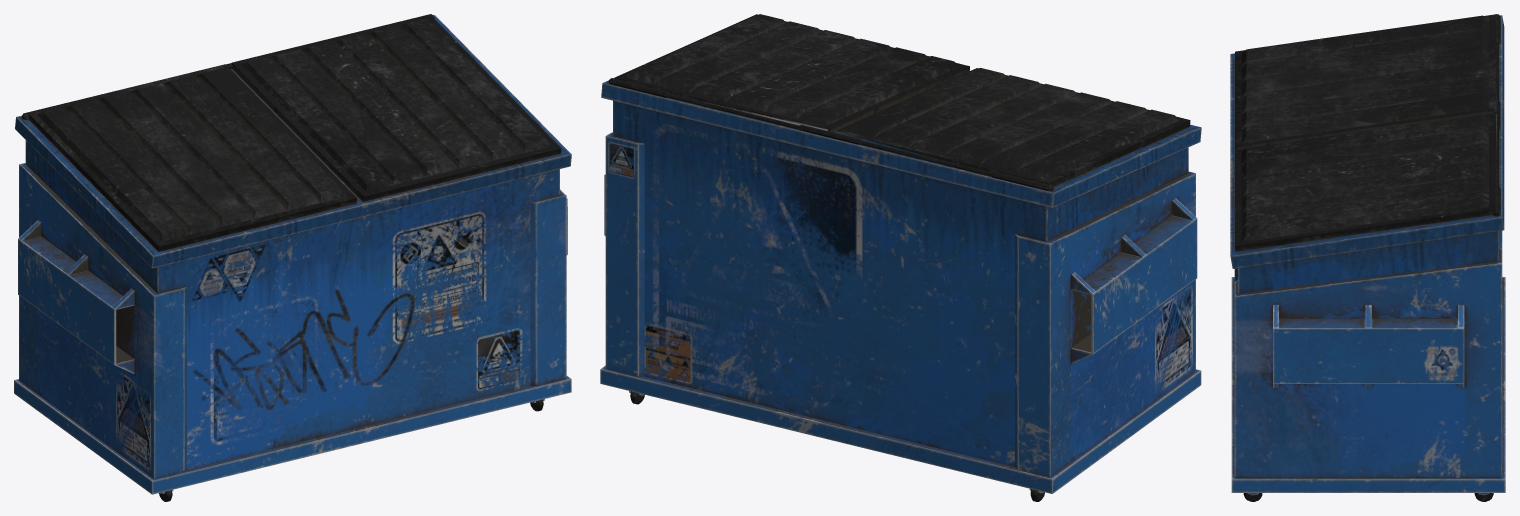
The model's file is Dumpster.fbx.
The picture shows the model from 3 angles, left to right: view 1: azimuth 30°, elevation 25°; view 2: azimuth 150°, elevation 25°; view 3: azimuth 270°, elevation 25°; orthographic projection. The views are drawn at different scales.
Visible parts, largest first — view 1: Dumpster; view 2: Dumpster; view 3: Dumpster.
Part boxes in pixels (left/top/right/bottom): Dumpster: left=14, top=14, right=571, bottom=501; Dumpster: left=600, top=14, right=1201, bottom=501; Dumpster: left=1230, top=14, right=1505, bottom=501.
Size of the model in its own units: 298 by 192 by 158.
Materials: 1 (1 with a texture image).
